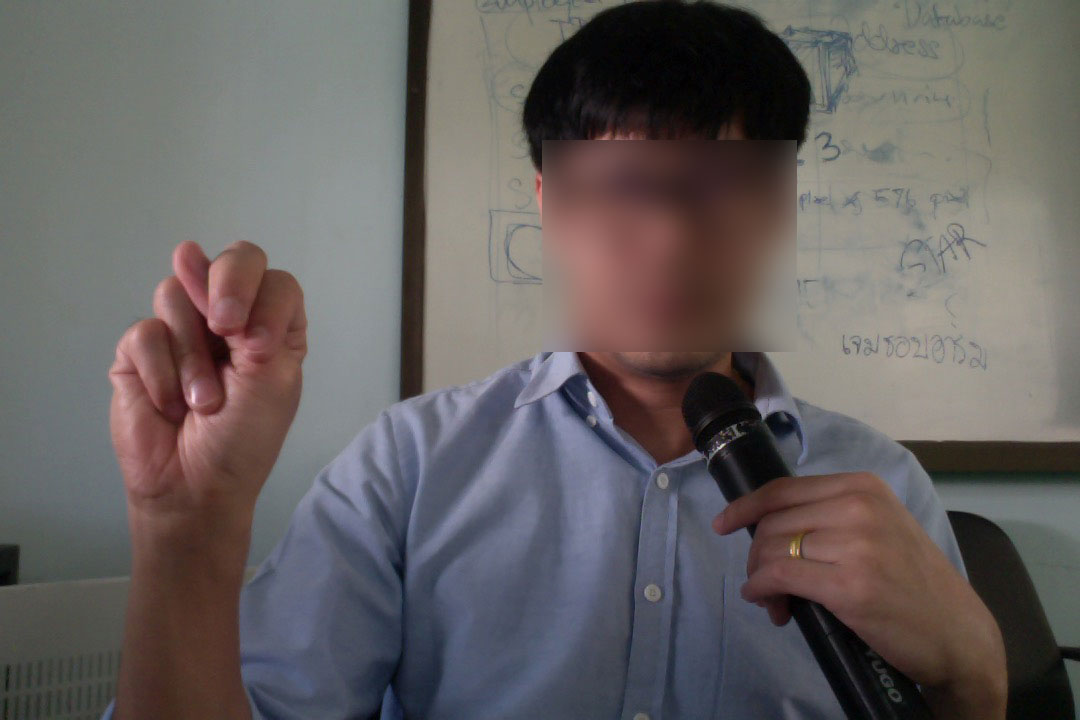nor: (98, 226, 319, 520)
